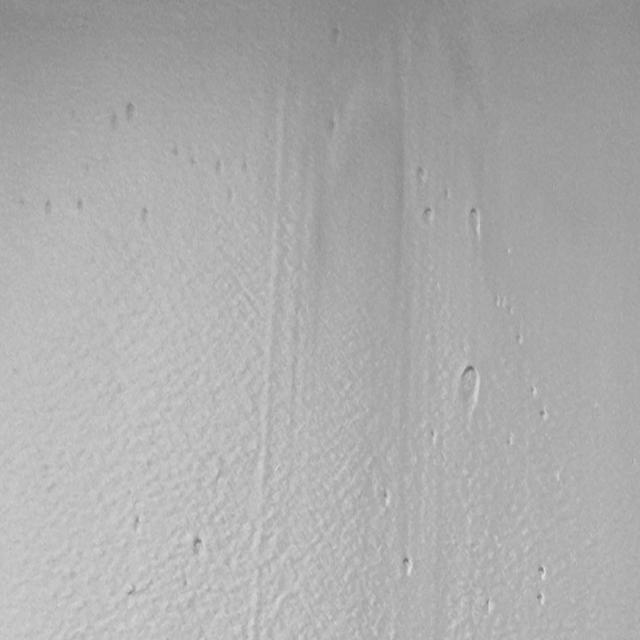pin holes: (454, 363, 481, 411), (464, 209, 484, 241), (122, 102, 141, 127), (188, 538, 208, 561), (397, 556, 415, 579), (414, 165, 432, 188), (419, 205, 436, 228), (323, 118, 340, 140), (43, 196, 58, 218), (130, 514, 144, 536), (379, 490, 392, 512), (138, 207, 152, 227), (330, 25, 344, 45), (211, 156, 225, 176), (536, 566, 551, 584), (76, 196, 89, 216), (226, 182, 236, 207), (535, 589, 548, 608), (505, 430, 515, 454), (484, 594, 494, 617), (427, 428, 438, 448), (514, 331, 526, 349), (170, 144, 180, 164), (539, 407, 551, 423), (526, 386, 538, 402)
